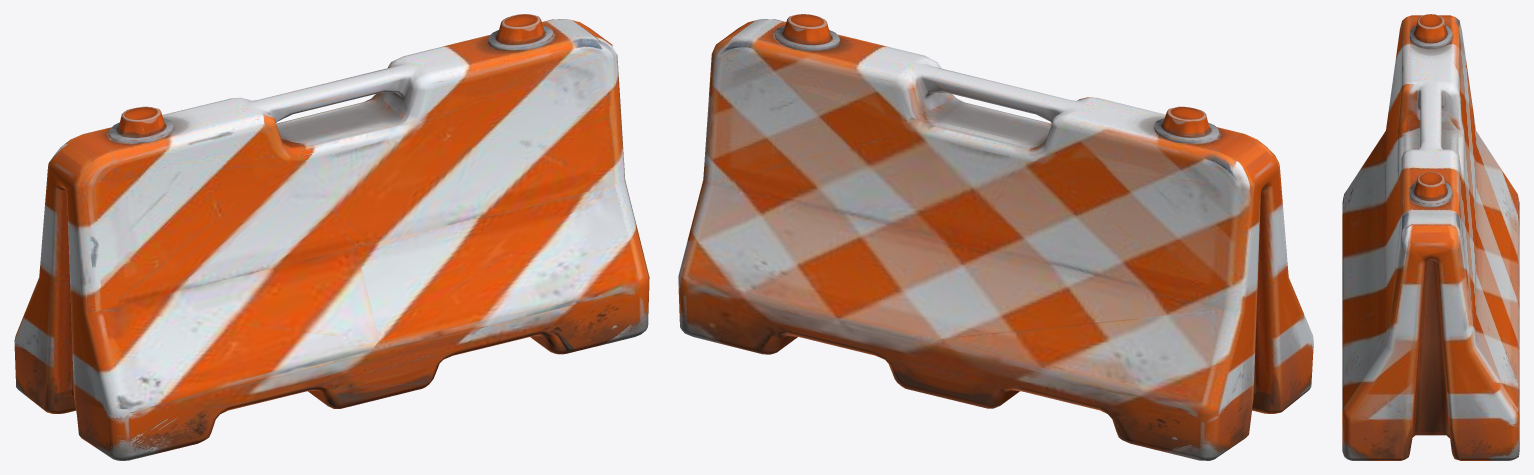
The model's file is barrier_stripe.glb.
3 renders of one model, left to right at view 1: azimuth 30°, elevation 25°; view 2: azimuth 150°, elevation 25°; view 3: azimuth 270°, elevation 25°, orthographic. The views are drawn at different scales.
Parts seen in each view (by area): view 1: barrier_stripe; view 2: barrier_stripe; view 3: barrier_stripe.
Boxes of the visible parts, <box> form: barrier_stripe: <box>14,14,649,460</box>; barrier_stripe: <box>678,14,1313,460</box>; barrier_stripe: <box>1342,14,1519,460</box>.
Bounding box in the file's own units: 1.2 × 0.63 × 0.4.
1 material, 1 textured.
